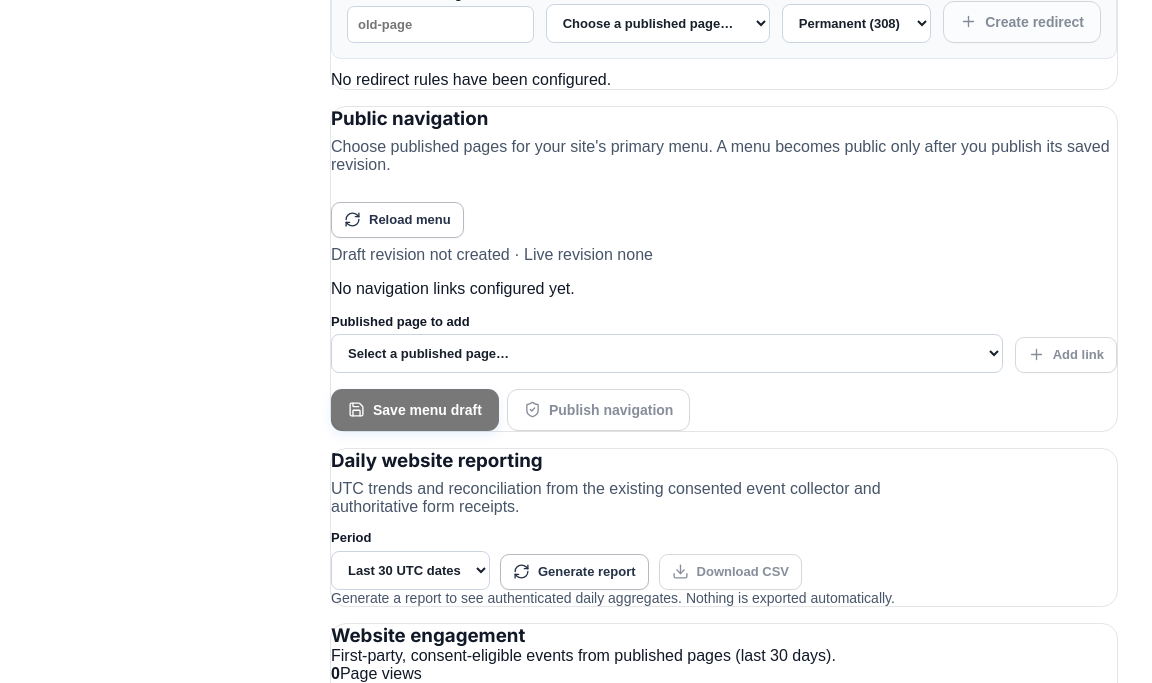
Test: CMS primary navigation editor › supports keyboard-accessible reorder and removal without a parallel editor
(page scrolled)
Select "Home (/home)" in the dropdown labelled "Published page to add" at coordinates (667, 353), box [331,334,1003,373]
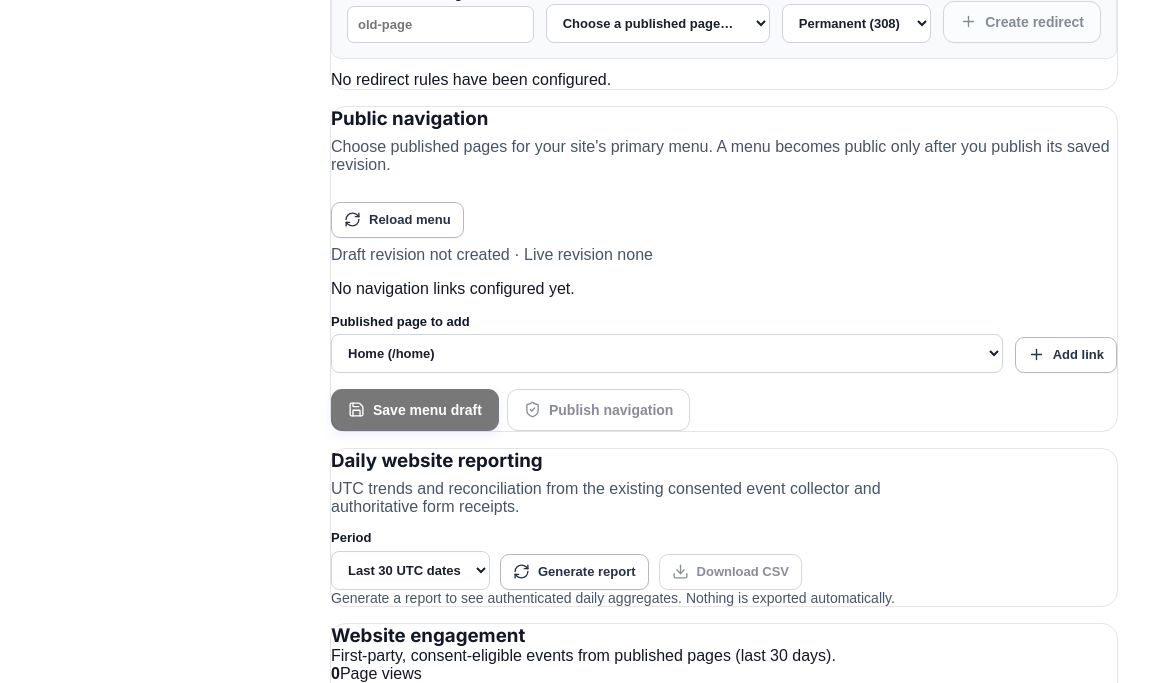
Click the button "Add link" at coordinates (1066, 355), box [1015,337,1117,373]
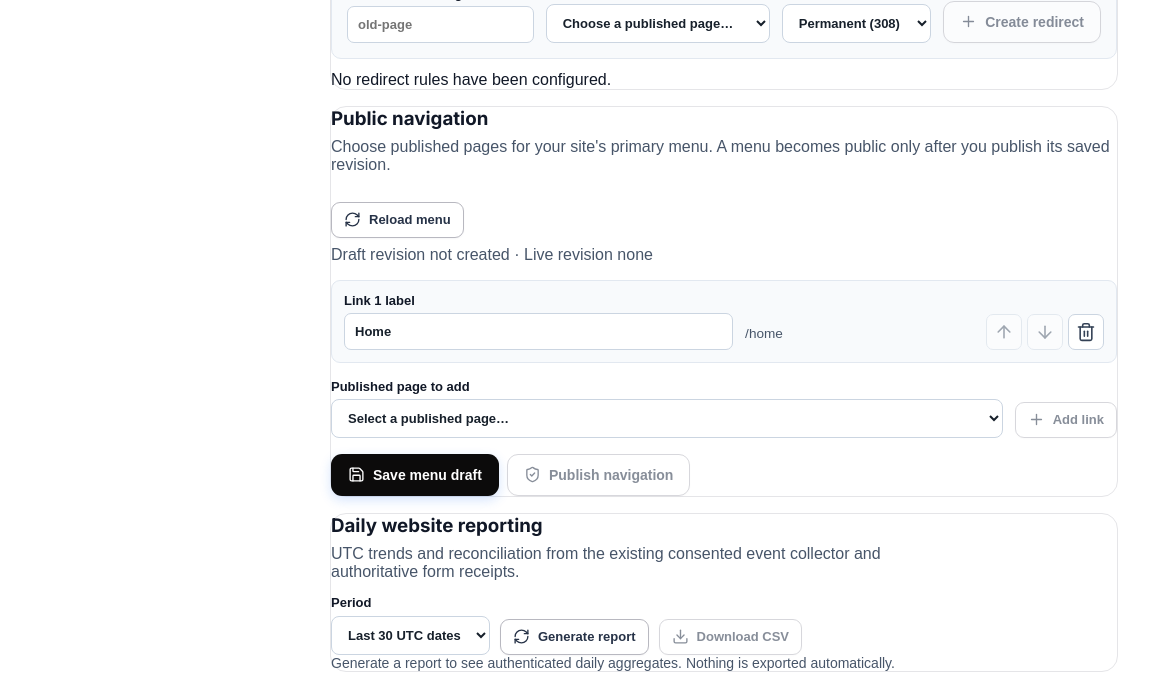
Select "About us (/about)" in the dropdown labelled "Published page to add" at coordinates (667, 418), box [331,399,1003,438]
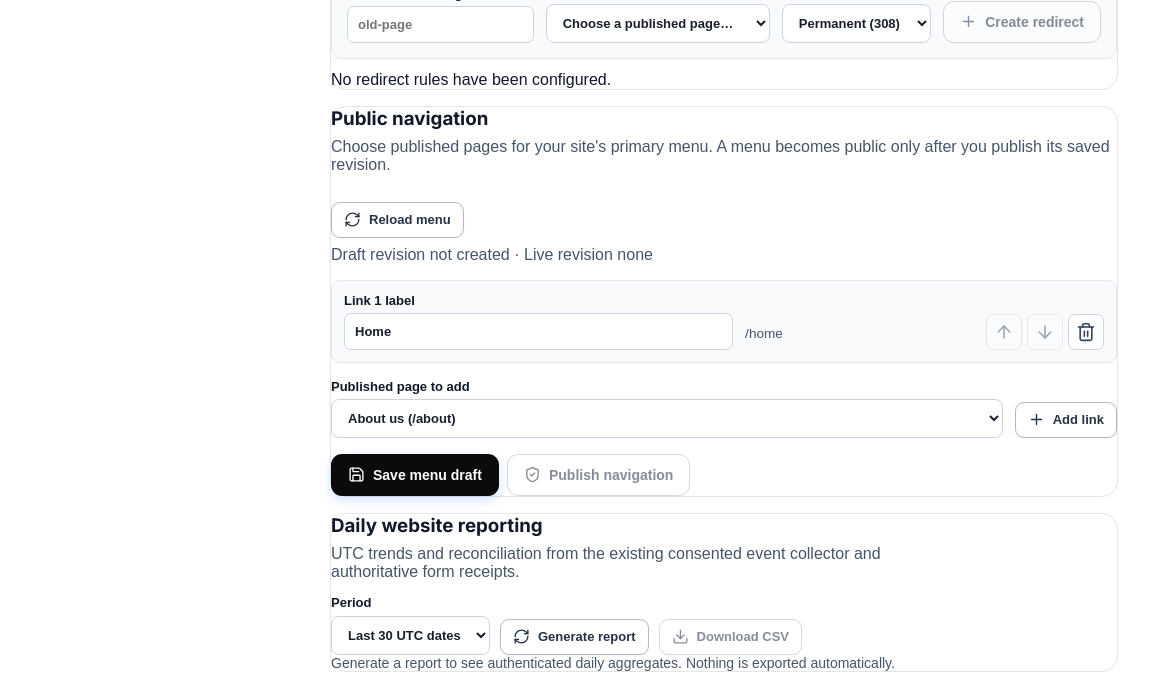
Click the button "Add link" at coordinates (1066, 420), box [1015,402,1117,438]
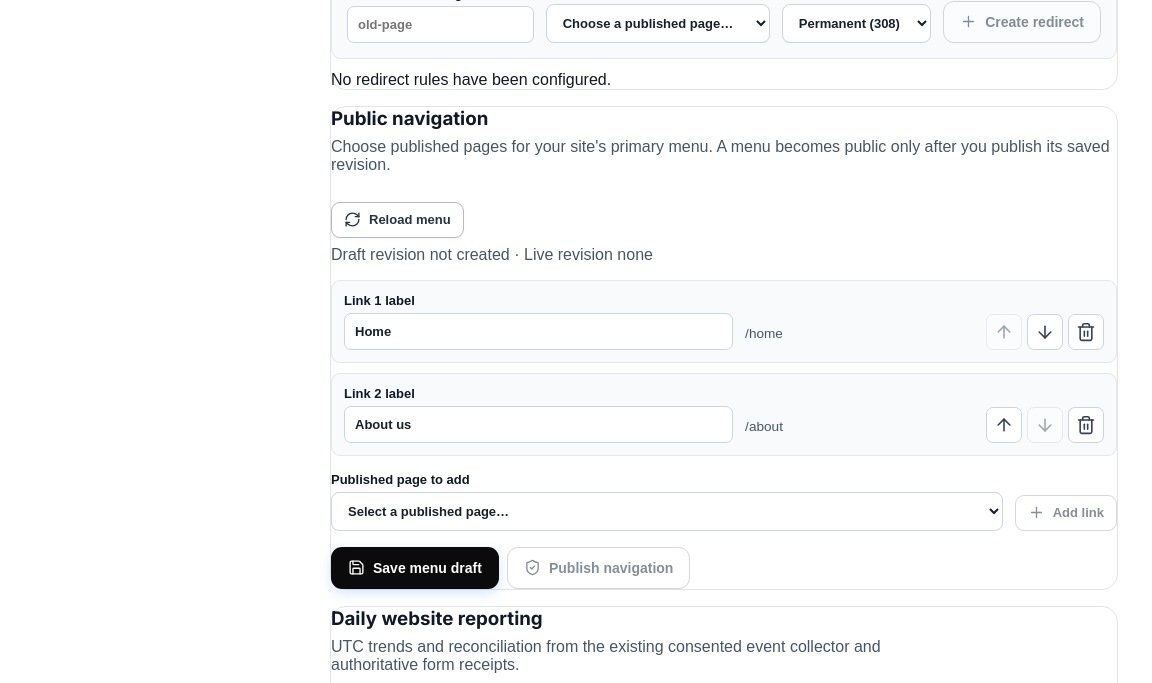
Expected: the field labelled "Link 1 label" holds "Home", [344,313,733,350]
Click the button named "Move menu link 2 up" at coordinates (1004, 425), box [986,407,1022,443]
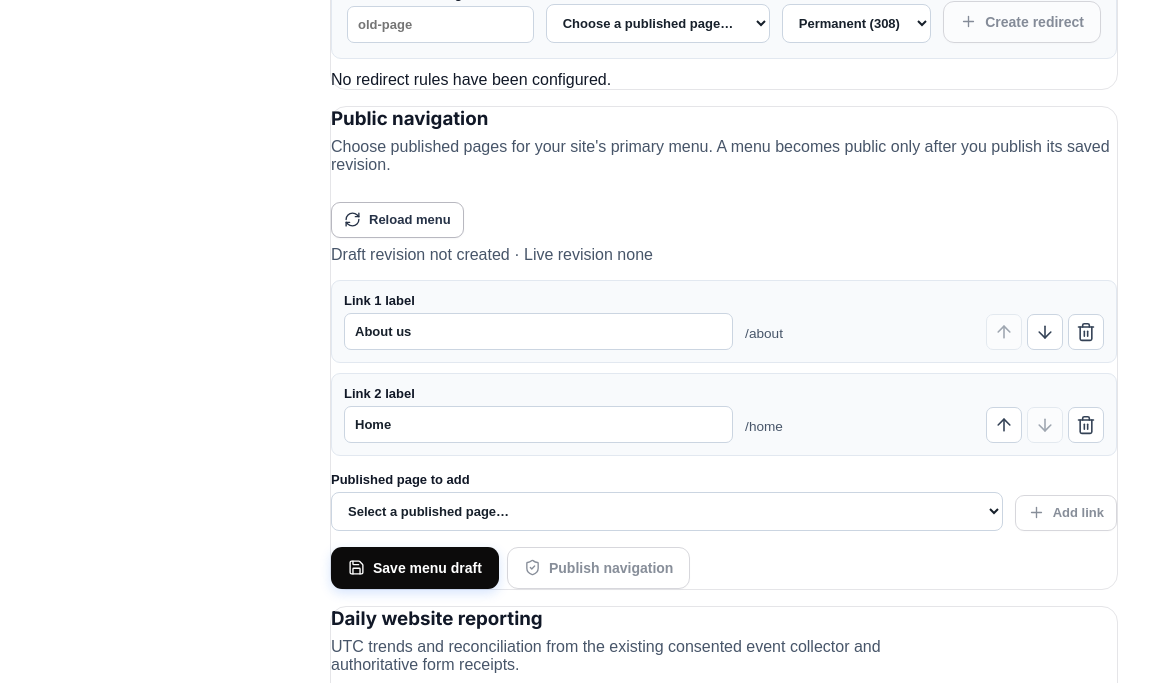
Expected: the field labelled "Link 1 label" holds "About us", [344,313,733,350]
Click the button named "Remove menu link 2" at coordinates (1086, 425), box [1068,407,1104,443]
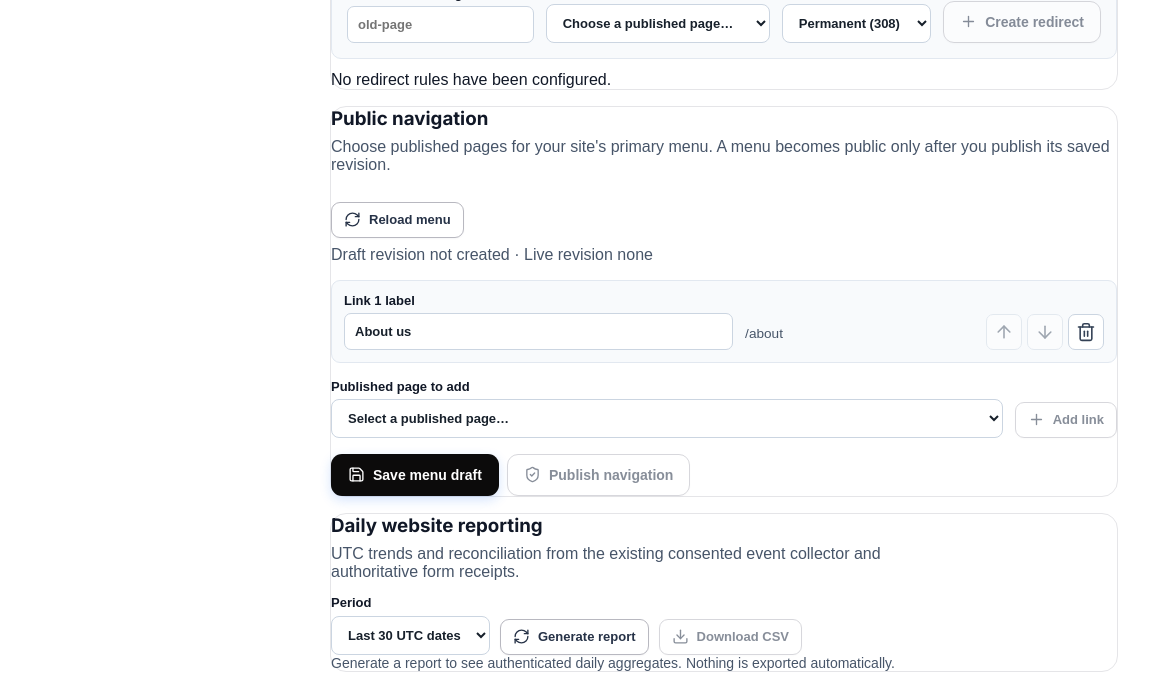
Expected: the button "Publish navigation" is disabled, [507,454,690,496]
Expected: the field labelled "Link 1 label" holds "About us", [344,313,733,350]
Expected: the number of fields labelled "Link 1 label" is 1, [344,313,733,350]
